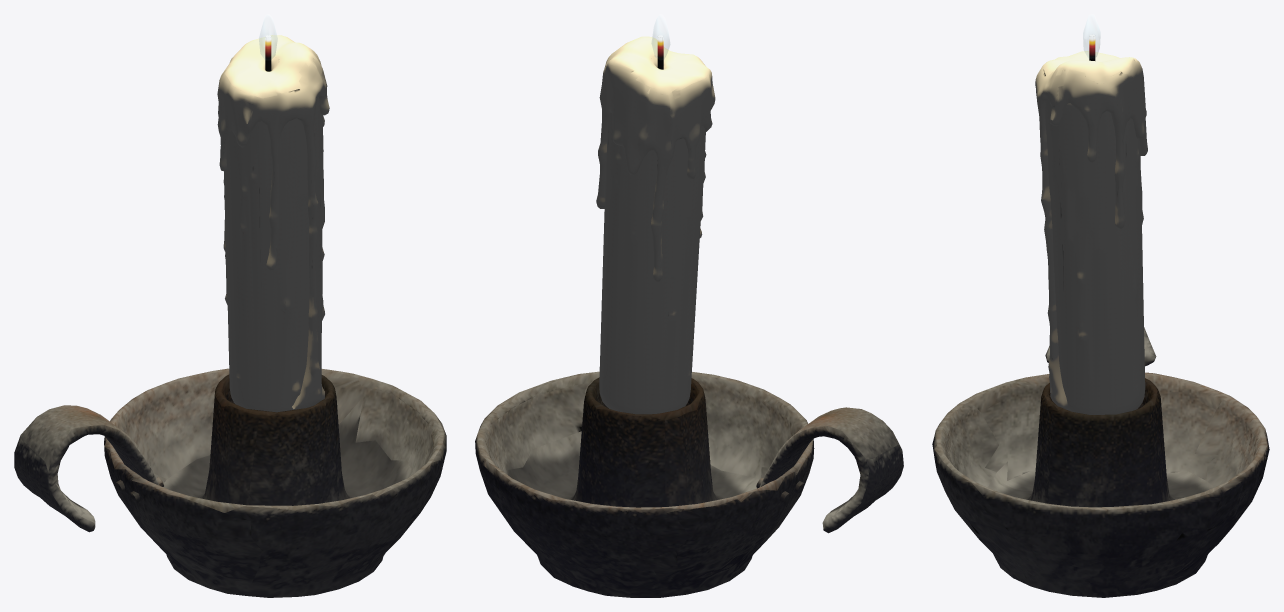
File: 3D Candlestick_lightning scene FBX.fbx
The picture shows the model from 3 angles, left to right: view 1: azimuth 30°, elevation 25°; view 2: azimuth 150°, elevation 25°; view 3: azimuth 270°, elevation 25°; orthographic projection. The views are drawn at different scales.
Parts seen in each view (by area): view 1: rusty_base, wax; view 2: rusty_base, wax; view 3: rusty_base, wax, flame.
Boxes of the visible parts, bbox=[...] form: rusty_base: bbox=[14, 368, 446, 597]; wax: bbox=[217, 35, 329, 412]; rusty_base: bbox=[475, 371, 903, 597]; wax: bbox=[596, 36, 715, 414]; rusty_base: bbox=[932, 327, 1269, 597]; wax: bbox=[1035, 51, 1147, 414]; flame: bbox=[1083, 14, 1100, 57].
Bounding box in the file's own units: 2467 × 3354 × 1859.
